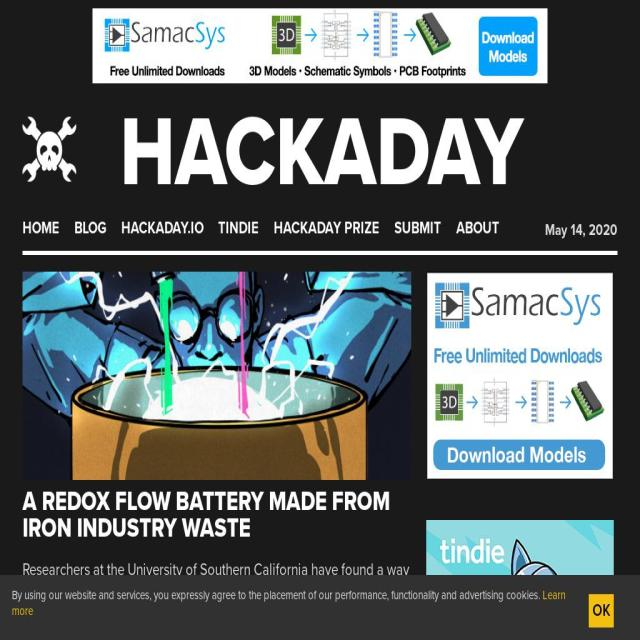button: (22, 272, 412, 542), (424, 272, 640, 542), (0, 272, 10, 568), (274, 215, 380, 242), (120, 215, 204, 242), (394, 215, 441, 242), (456, 215, 500, 242), (218, 215, 260, 242), (22, 215, 59, 242), (588, 594, 614, 628), (74, 215, 106, 242)
heading: (119, 104, 524, 202), (22, 488, 412, 542), (424, 488, 640, 542), (0, 488, 10, 568)
iframe: (426, 520, 614, 640)
image: (22, 272, 412, 480), (424, 272, 640, 480), (426, 272, 614, 480), (92, 8, 548, 84), (22, 116, 76, 182), (0, 272, 10, 480)
label: (545, 218, 617, 242)
link: (22, 559, 410, 640), (424, 559, 640, 640), (11, 587, 566, 618)
text: (11, 586, 542, 602), (0, 586, 7, 640)
